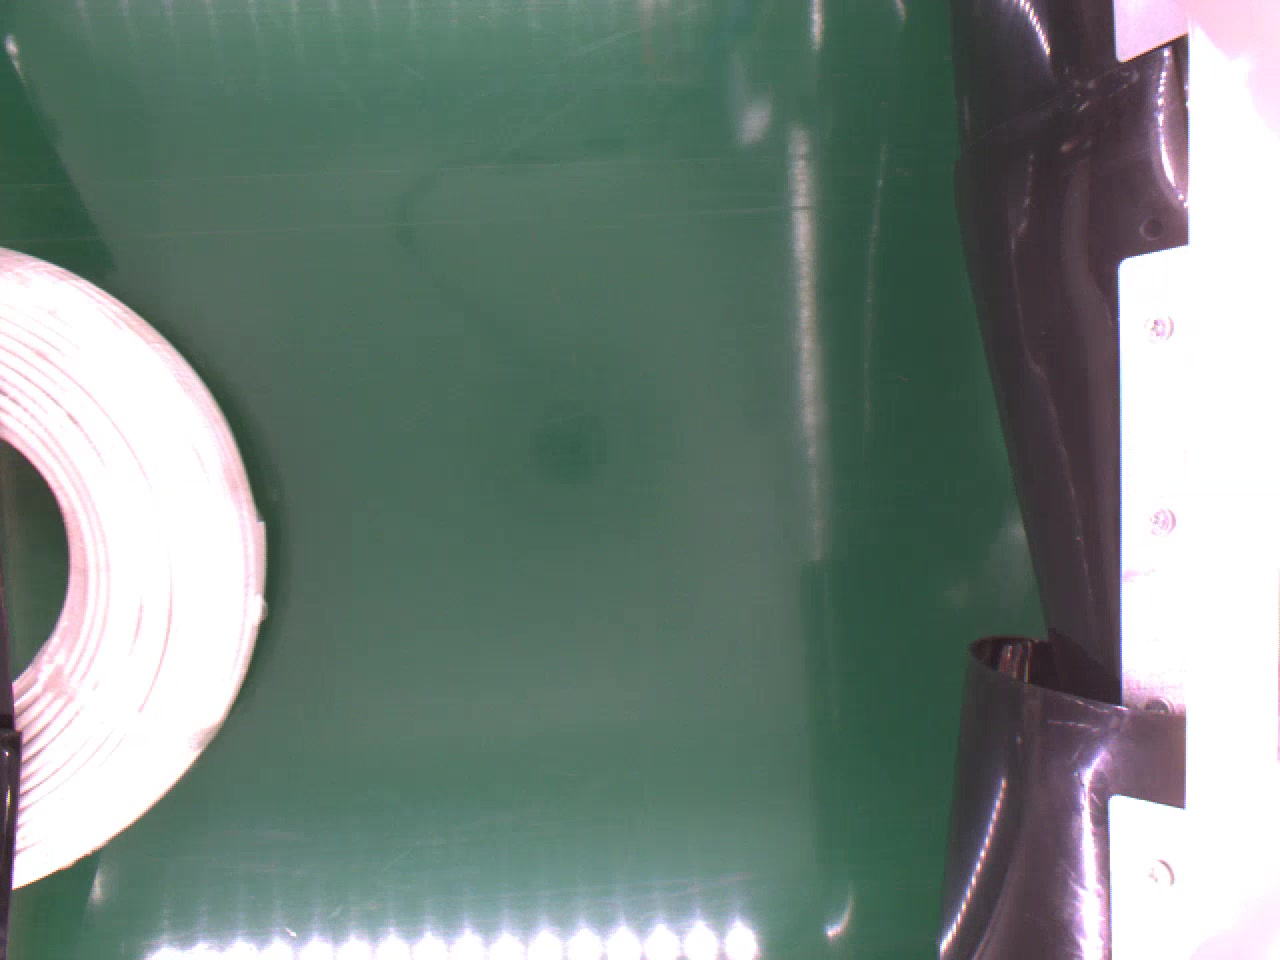white: (0, 242, 271, 896)
